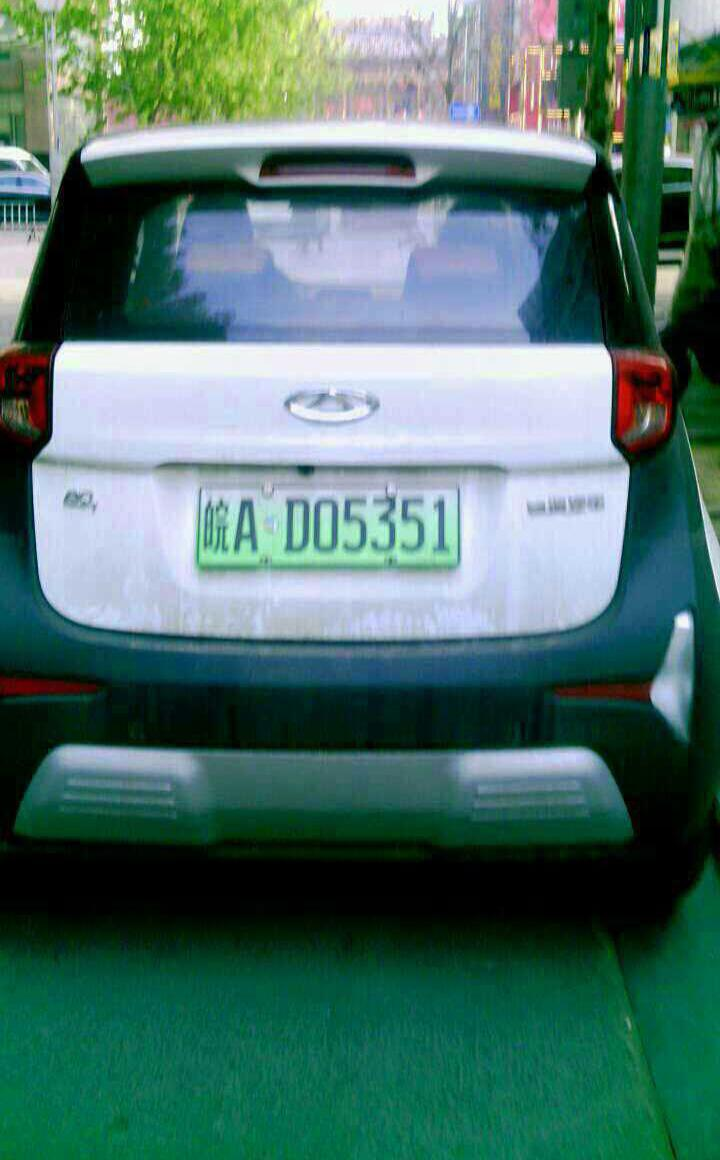car: (198, 478, 460, 568)
